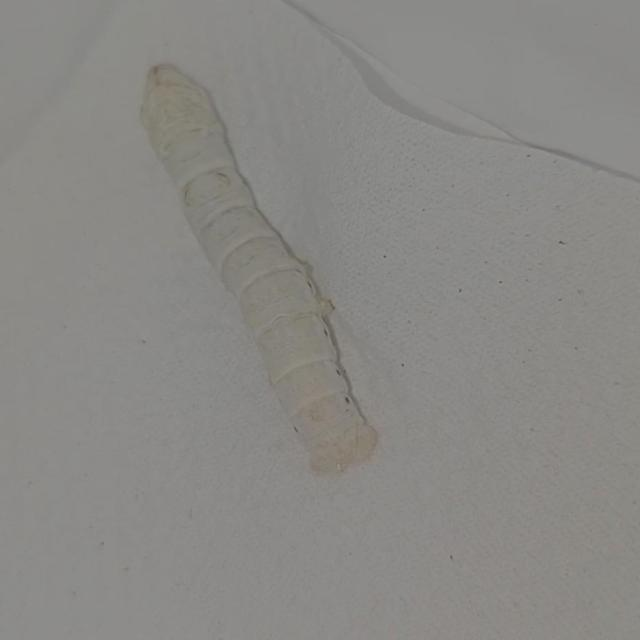Healthy: (104, 34, 405, 508)
